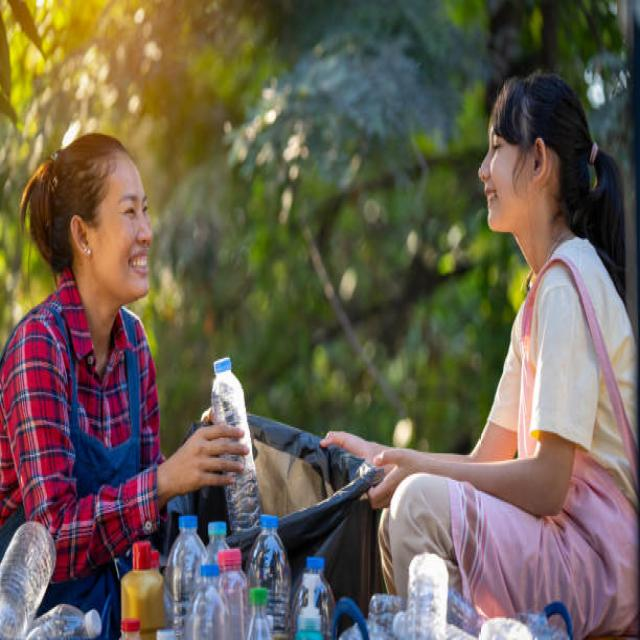plastic: (170, 530, 304, 632)
